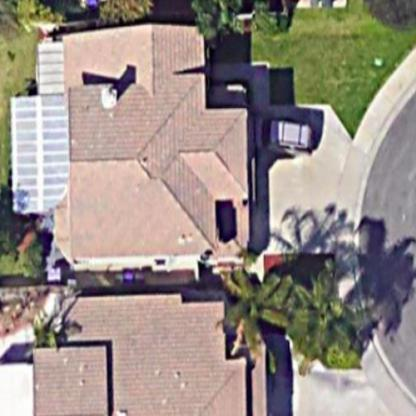car: (255, 243, 335, 285), (242, 115, 314, 156)
solar_panel: (6, 82, 75, 220)
